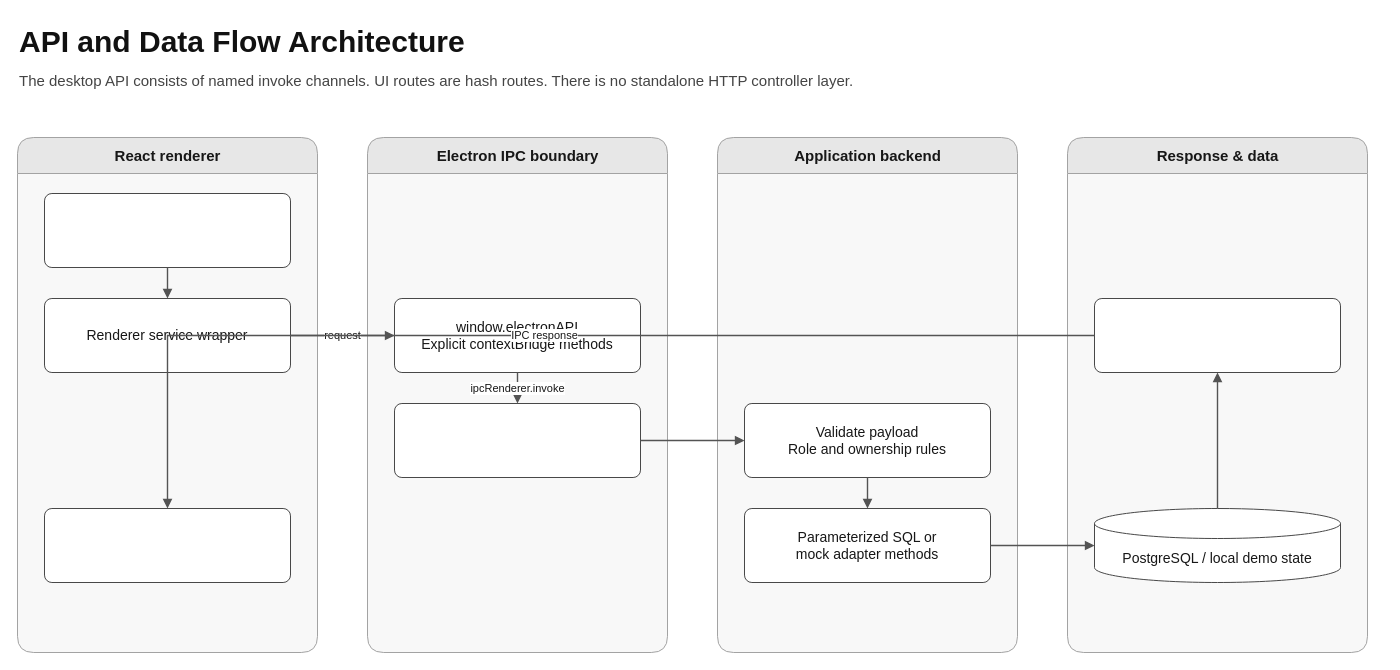
Image size: 1400x670. Some labels were removed from this diagram. The centre of each missing label's shape, as x and y in pixels:
Check sender and main frame then authorize protected calls: (517,440)
Render result or error: (167,545)
Return result, error or specialized status / identifier payload: (1217,335)
User interaction or page data load: (167,230)
